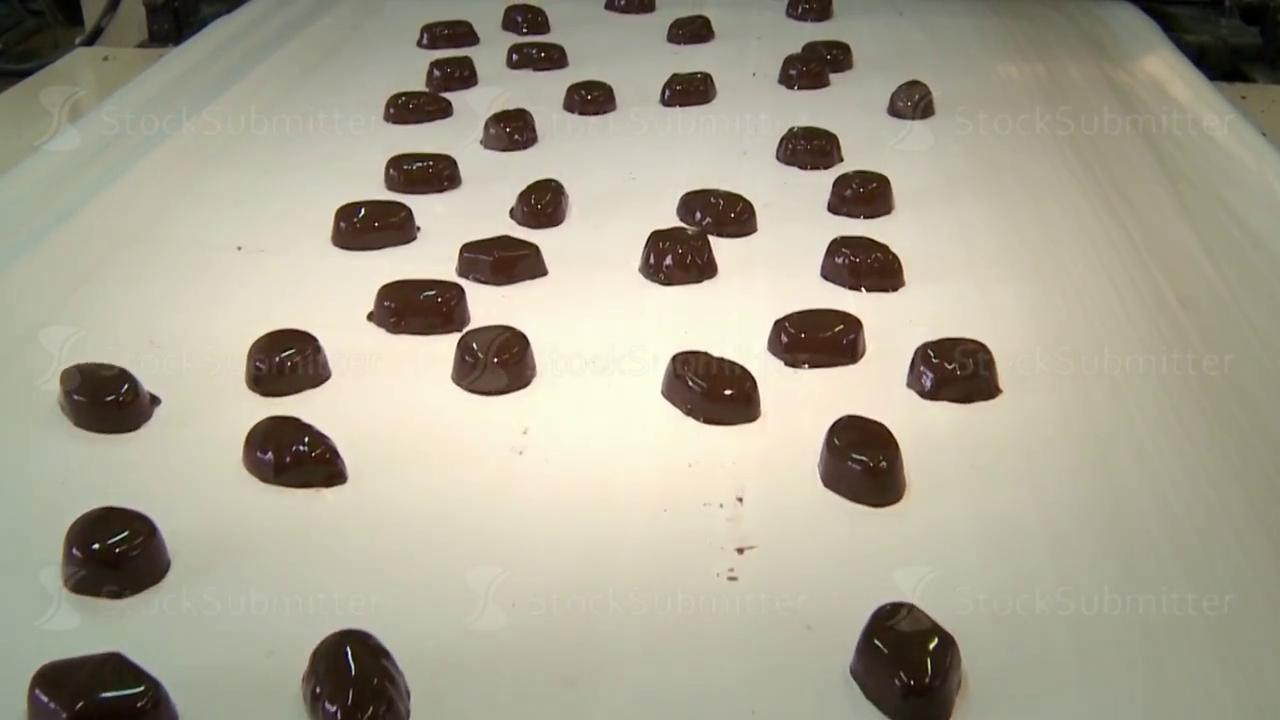chocolate: (849, 600, 963, 719), (26, 650, 179, 719), (61, 505, 171, 599), (301, 627, 411, 719), (818, 414, 906, 507), (242, 414, 347, 488), (57, 361, 160, 434), (661, 350, 760, 425), (906, 336, 1001, 403), (767, 308, 866, 369), (451, 324, 536, 395), (245, 328, 331, 396), (367, 278, 469, 335), (820, 235, 905, 293), (456, 234, 548, 285), (639, 225, 717, 285), (331, 199, 418, 250), (676, 188, 757, 238), (827, 169, 894, 218), (384, 152, 461, 194), (776, 125, 843, 170), (509, 178, 568, 228), (480, 107, 537, 151), (383, 90, 452, 124), (659, 70, 716, 107), (887, 79, 935, 120), (563, 79, 616, 116), (425, 55, 477, 92), (416, 19, 479, 49), (506, 41, 568, 71), (501, 3, 550, 35), (666, 14, 714, 45), (785, 0, 832, 22)
